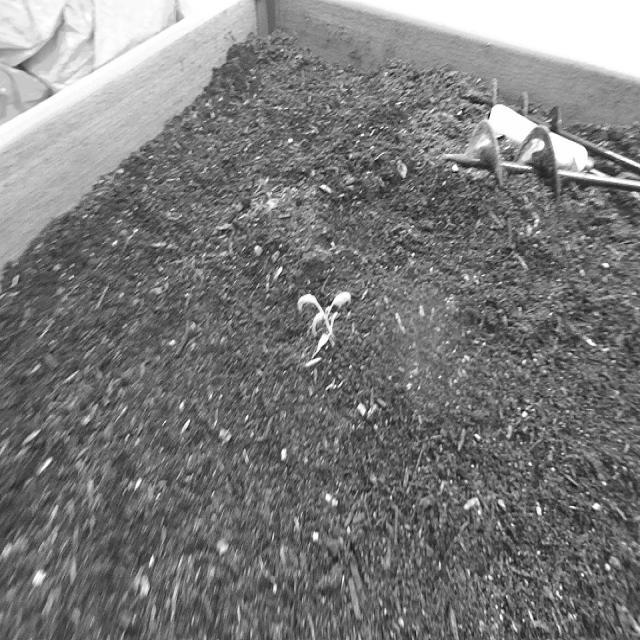Healthy: (296, 282, 354, 356)
